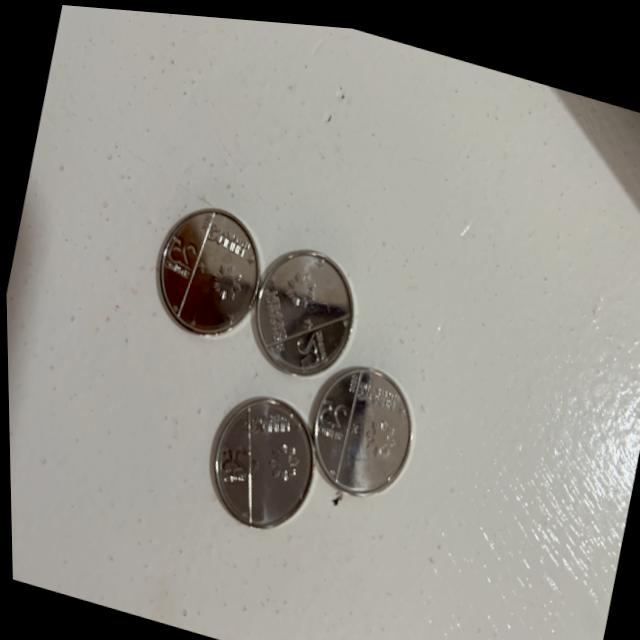25Cent_New_Front: (152, 215, 203, 288), (302, 385, 349, 454), (204, 432, 253, 487), (286, 320, 331, 371)
